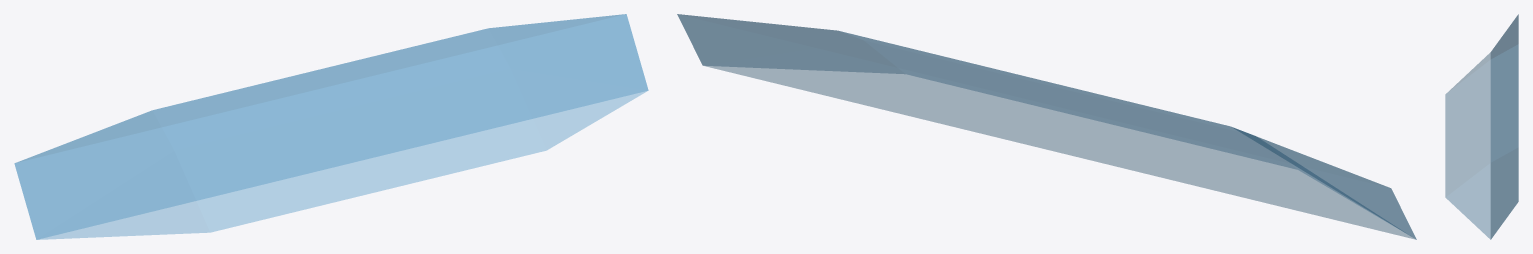
The model's file is obj_rewards_carwindshield_toppart_col.fbx.
3 views of the same model, side by side, from view 1: azimuth 30°, elevation 25°; view 2: azimuth 150°, elevation 25°; view 3: azimuth 270°, elevation 25° (orthographic). The views are drawn at different scales.
Visible parts, largest first — view 1: Cube.073; view 2: Cube.073; view 3: Cube.073.
Part boxes in pixels (<box>): Cube.073: <box>14,14,648,239</box>; Cube.073: <box>677,14,1416,239</box>; Cube.073: <box>1445,14,1518,239</box>.
Size of the model in its own units: 8.02 by 1 by 1.32.
